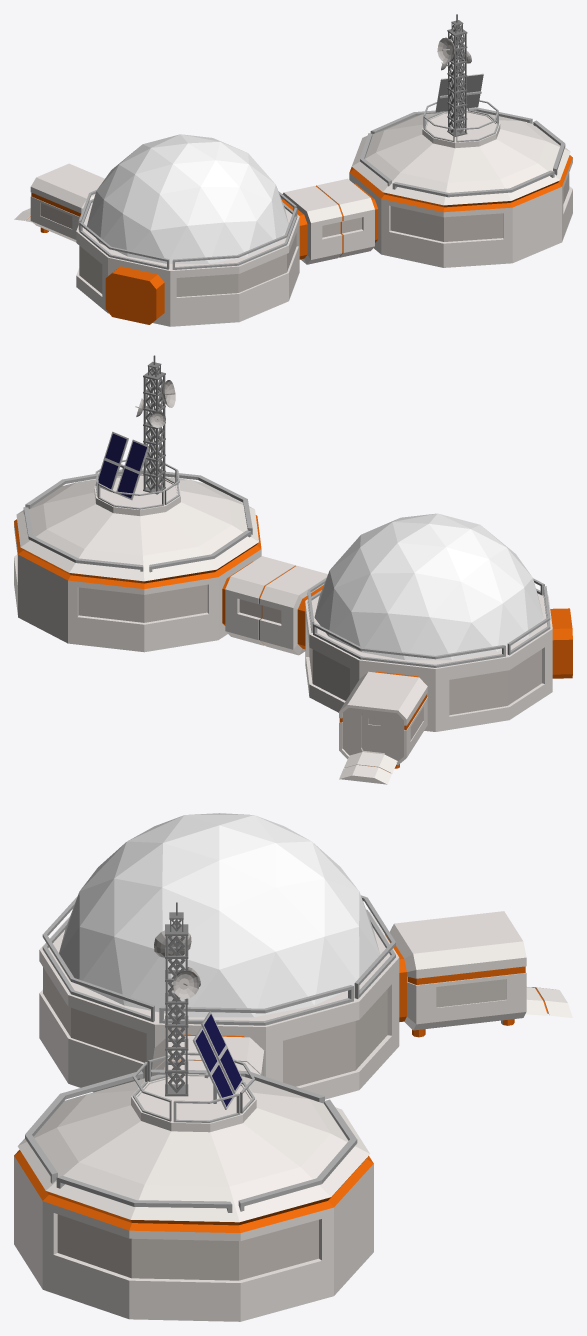
The model's file is Mars-One_base.FBX.
3 views of the same model, one above another, from view 1: azimuth 30°, elevation 25°; view 2: azimuth 150°, elevation 25°; view 3: azimuth 270°, elevation 25° (orthographic). The views are drawn at different scales.
Parts seen in each view (by area): view 1: Cylinder001; view 2: Cylinder001; view 3: Cylinder001.
Boxes of the visible parts, bbox=[...] form: Cylinder001: bbox=[14, 14, 572, 326]; Cylinder001: bbox=[14, 355, 572, 784]; Cylinder001: bbox=[14, 813, 572, 1321].
Bounding box in the file's own units: 418 × 184 × 273.
